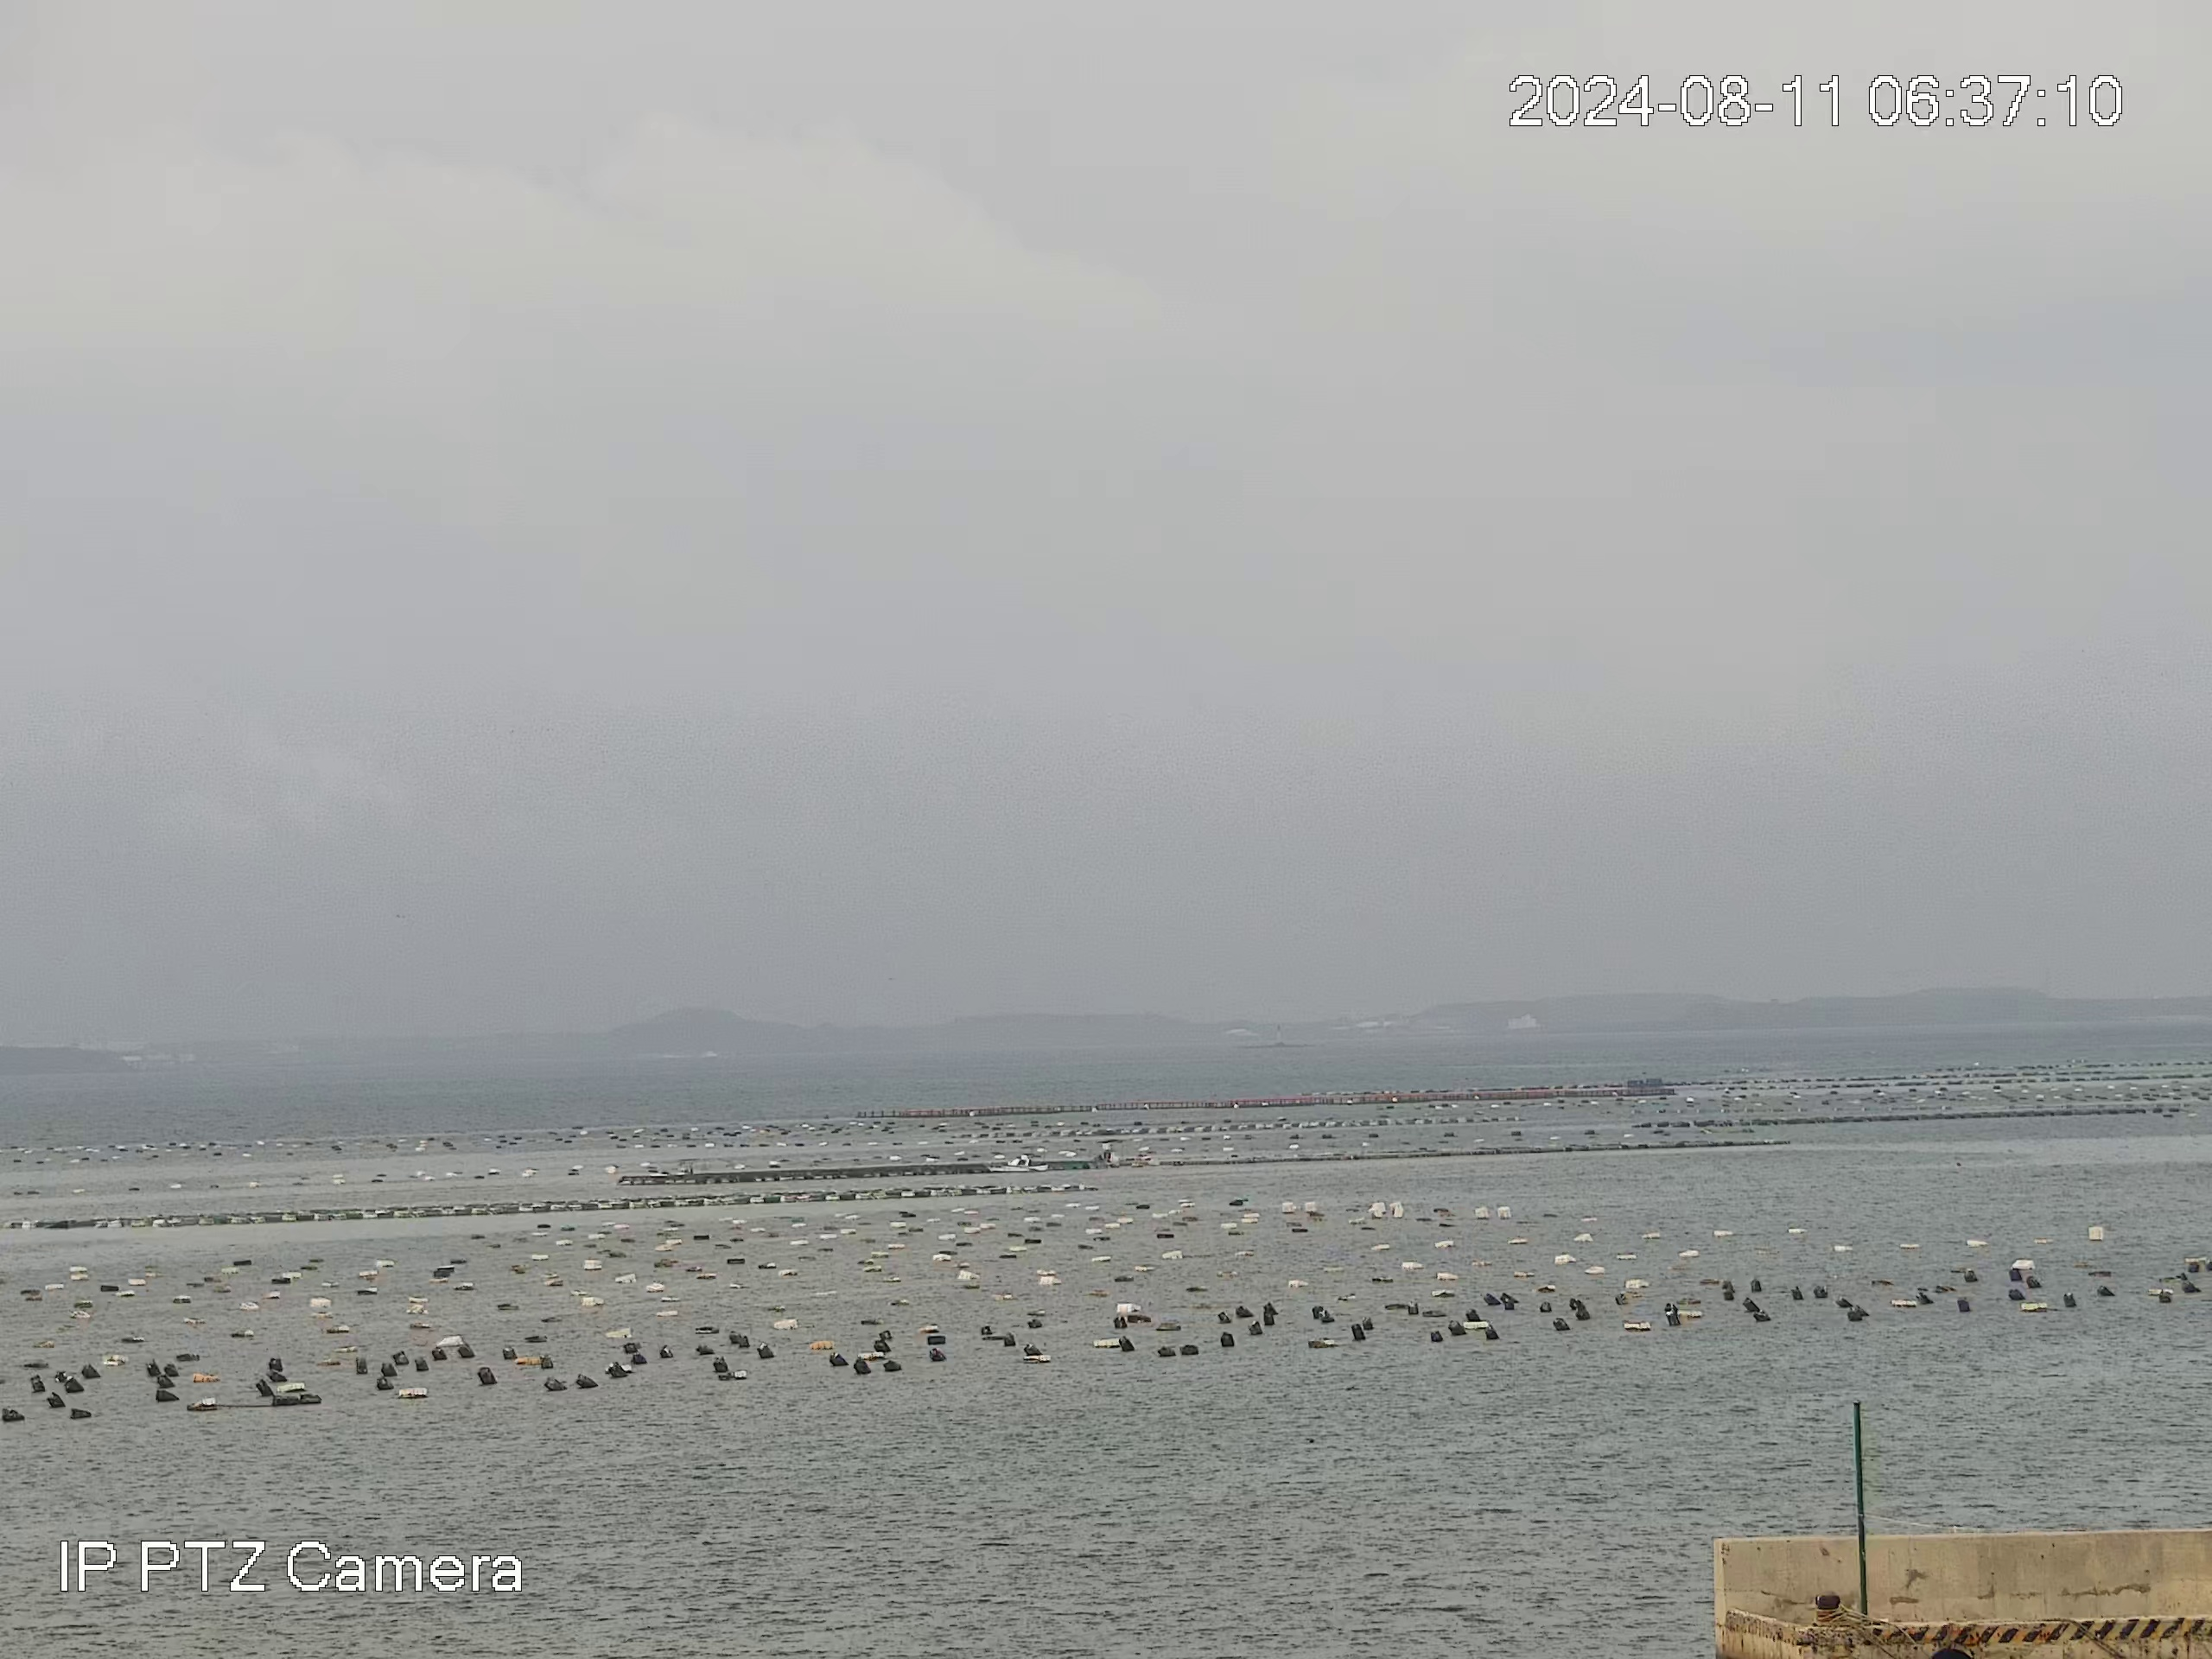boat: (986, 1152, 1049, 1175)
